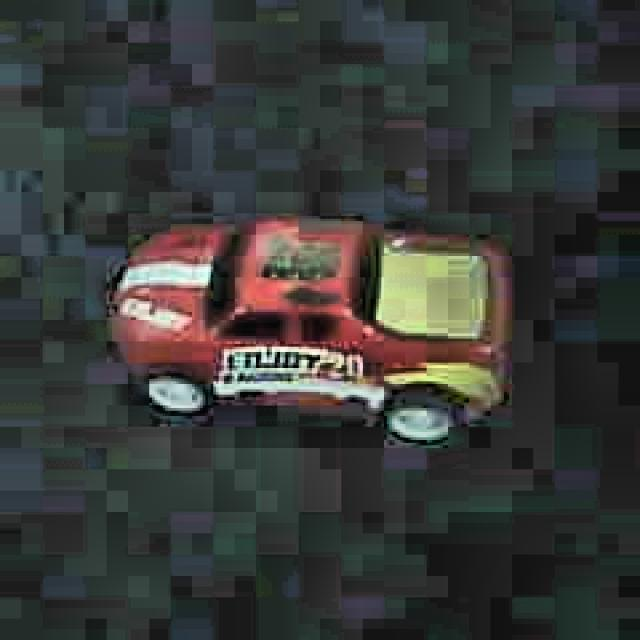car: (104, 211, 513, 448)
